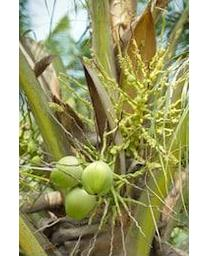coconut: (50, 155, 85, 194), (63, 185, 98, 221), (79, 160, 111, 196)
